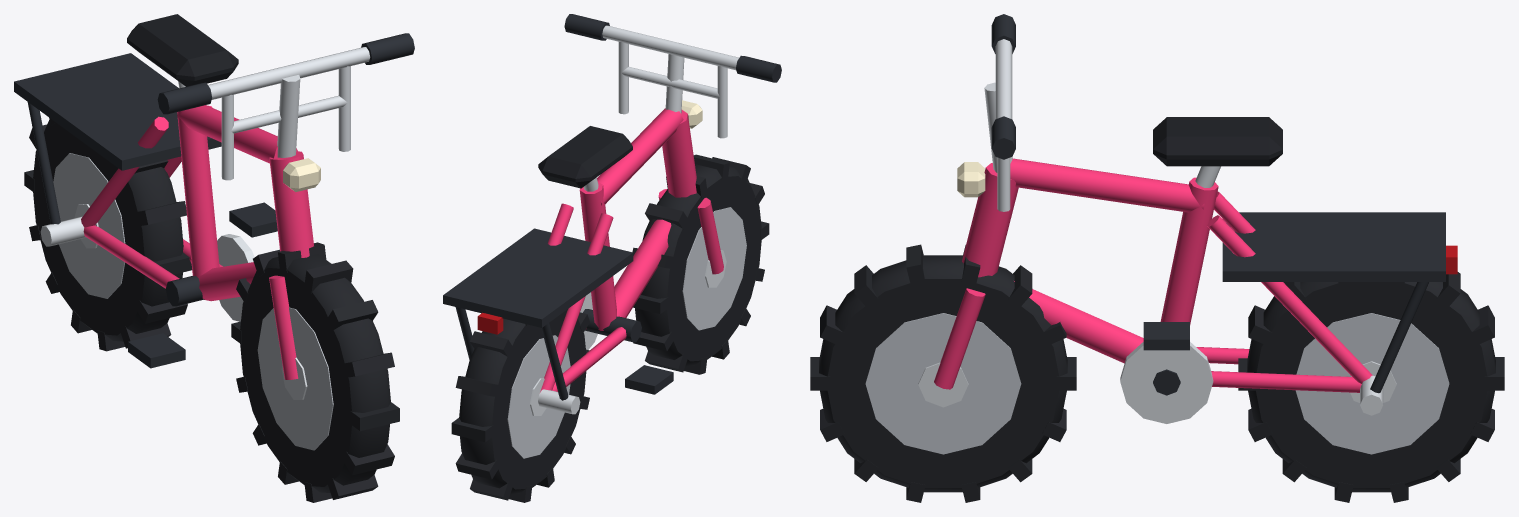
The model's file is bmx.glb.
The picture shows the model from 3 angles, left to right: view 1: azimuth 30°, elevation 25°; view 2: azimuth 150°, elevation 25°; view 3: azimuth 270°, elevation 25°; orthographic projection. The views are drawn at different scales.
Parts seen in each view (by area): view 1: body, wheel_F, wheel_R, fork; view 2: body, wheel_F, wheel_R, fork; view 3: body, wheel_F, wheel_R, fork.
Boxes of the visible parts, x1,y1,x2,y2 form: body: (14,14,298,368); wheel_F: (231,242,399,502); wheel_R: (24,117,192,351); fork: (157,33,414,379); body: (443,108,683,414); wheel_F: (632,154,769,374); wheel_R: (451,309,589,502); fork: (564,14,781,274); body: (1010,117,1457,423); wheel_F: (810,244,1076,502); wheel_R: (1238,272,1504,502); fork: (934,14,1018,389).
Size of the model in its own units: 0.63 by 0.9886 by 1.49.
